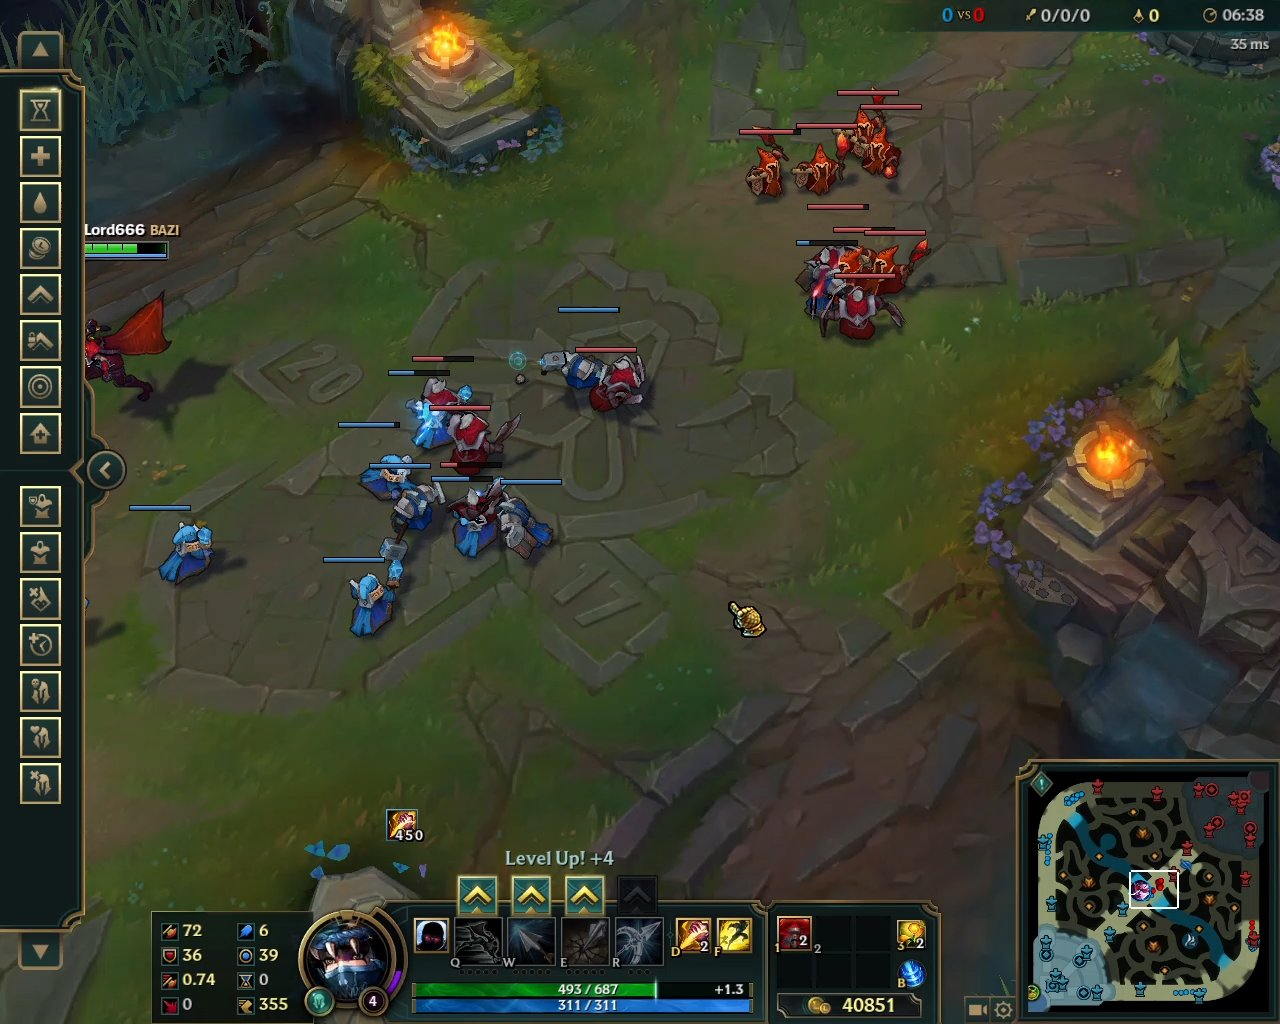EnemyMinion: (419, 403, 522, 478), (816, 273, 906, 343), (838, 231, 934, 296), (850, 103, 925, 178), (578, 348, 657, 414), (789, 124, 851, 200), (739, 126, 795, 204), (834, 90, 898, 157)
